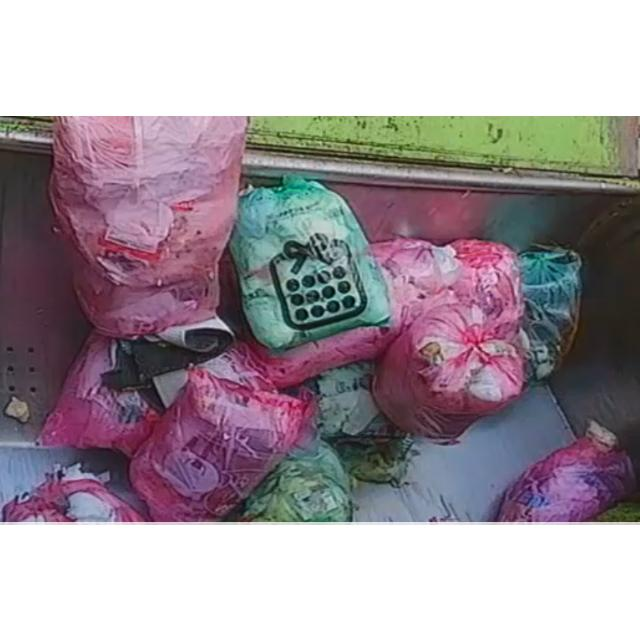general_trashbag: (230, 178, 391, 349), (240, 440, 351, 521), (520, 246, 582, 379)
other_trashbag: (50, 115, 246, 337), (250, 238, 521, 386), (130, 366, 312, 520), (374, 302, 525, 437), (39, 331, 161, 456), (498, 419, 635, 521)
